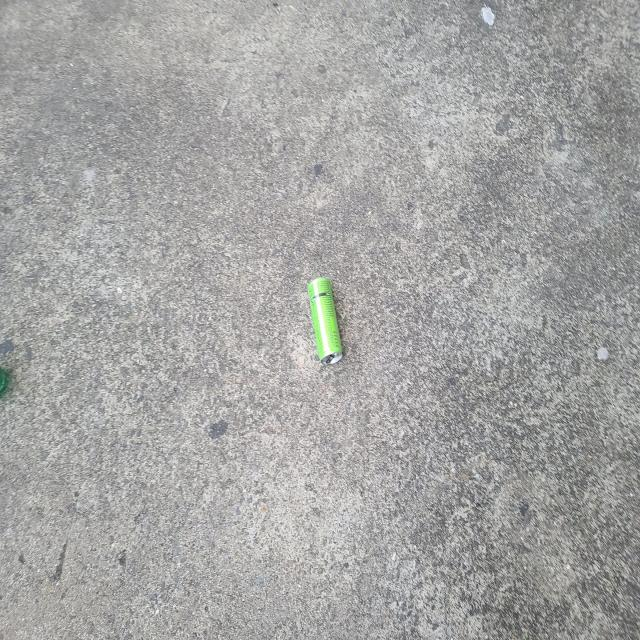can: (308, 277, 342, 363)
